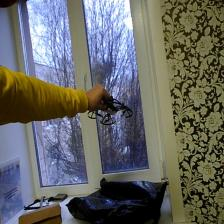drone: (86, 93, 135, 128)
